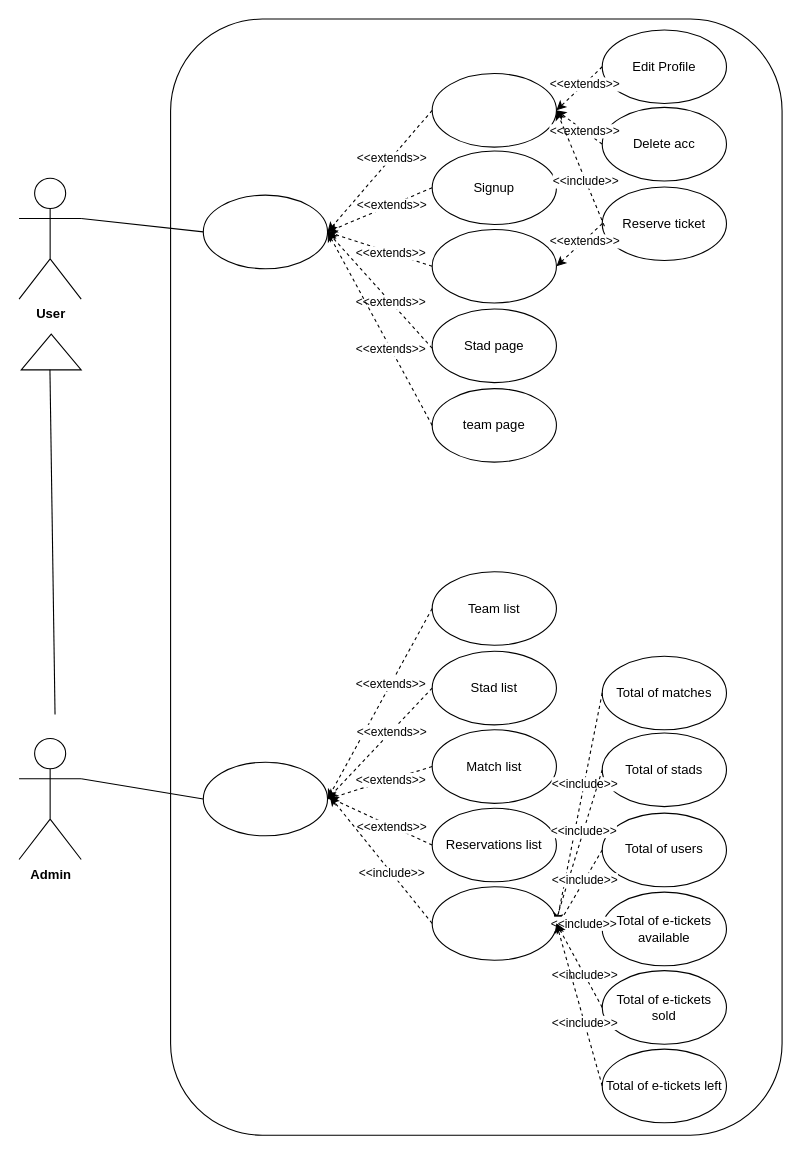
This 801x1154 diagram has some shape labels left out. The shapes that lost their labels are listed below. From the top down, each one's centre as x and y in pixels, then its label:
pixel 493 109: Login
pixel 265 231: View landing page
pixel 493 265: Match page
pixel 265 798: Dashboard
pixel 493 923: statistics
